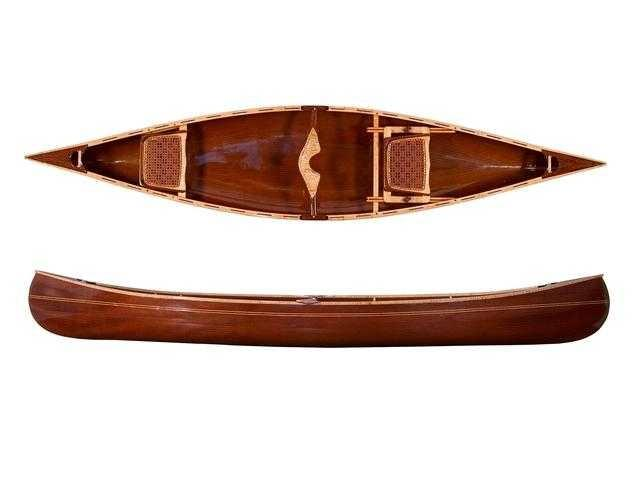kayak: (14, 105, 614, 349)
